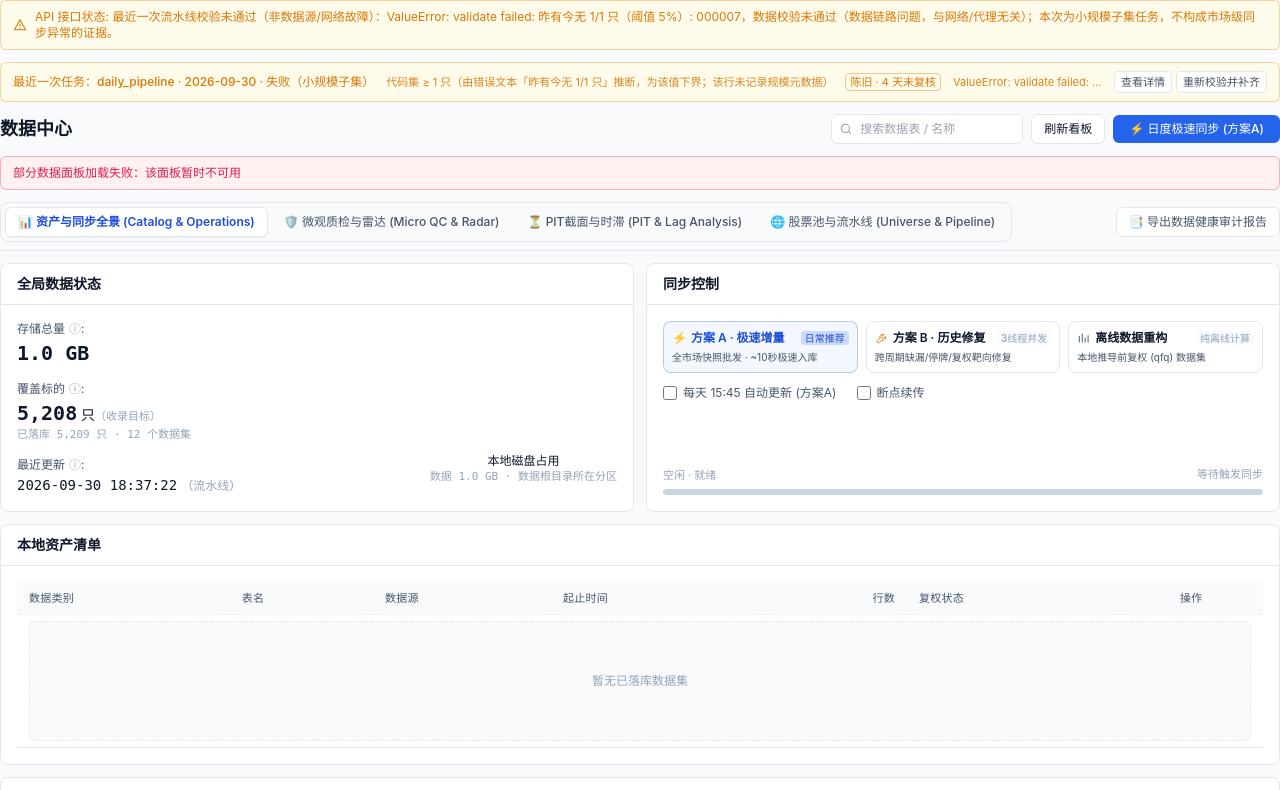
任务结论详情与处置入口 › 「查看详情」打开详情面板，展示规模来源与错误原文
This screenshot has width=1280, height=790.
Expected: the heading "数据中心" is shown, [0,115,72,143]
Click the button "查看详情": (1143, 82) [1114,71,1172,93]
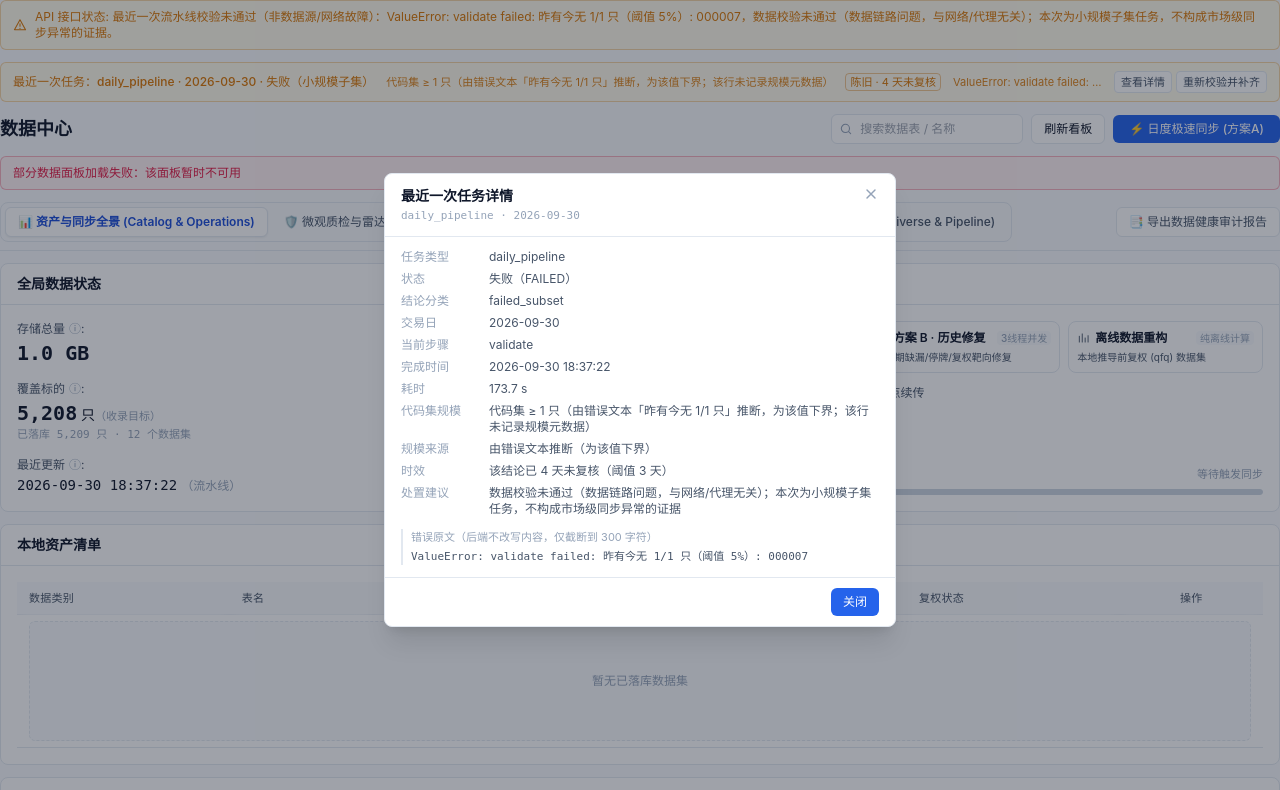
Now the heading "最近一次任务详情" is shown, box [401,187,513,204]
Now the text "由错误文本推断（为该值下界）" is shown, box [489,441,657,456]
Now the text "错误原文（后端不改写内容，仅截断到 300 字符）" is shown, box [411,530,658,544]
